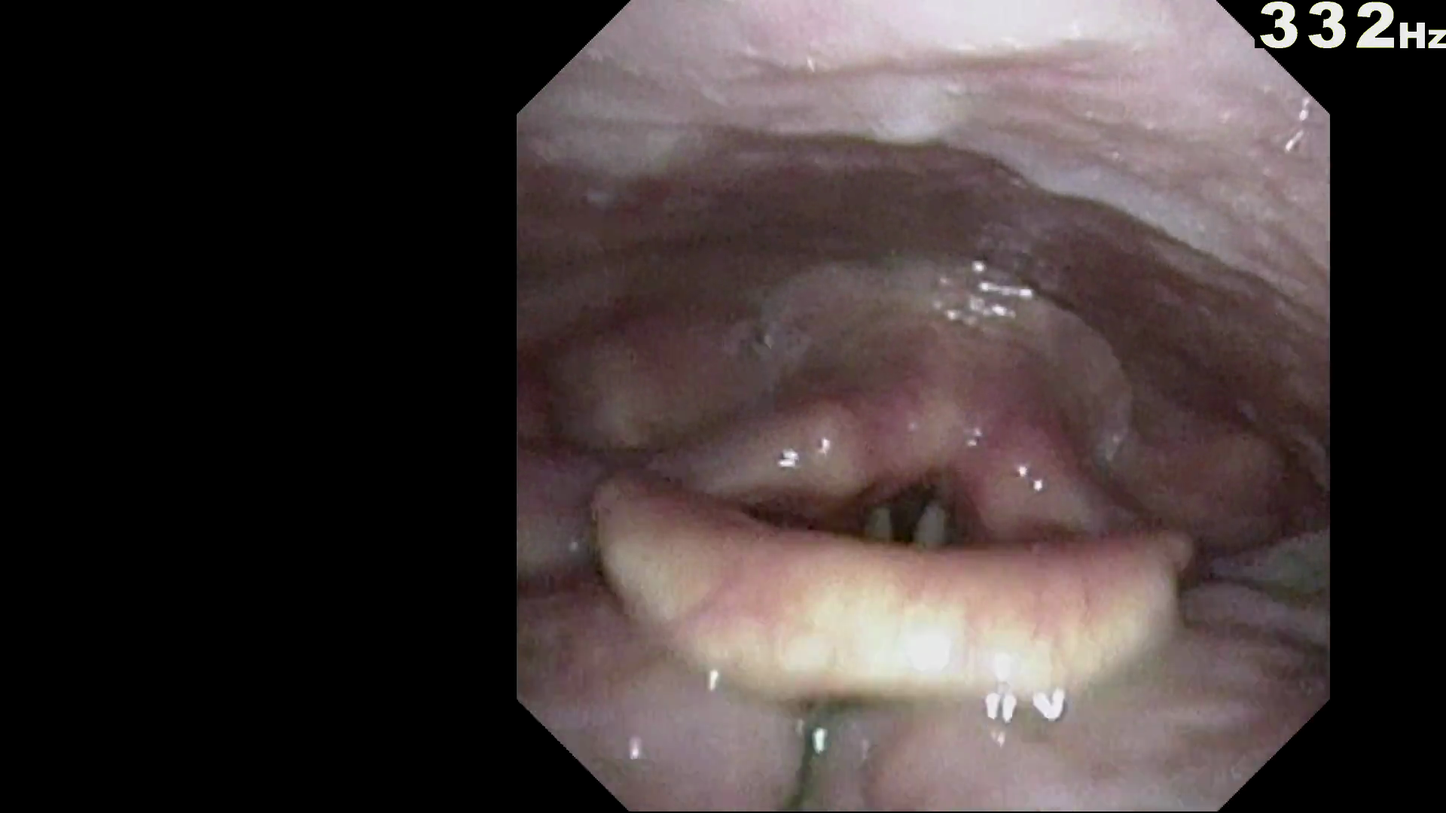epiglottis: (621, 568, 1220, 787)
trachea: (853, 440, 994, 612)
